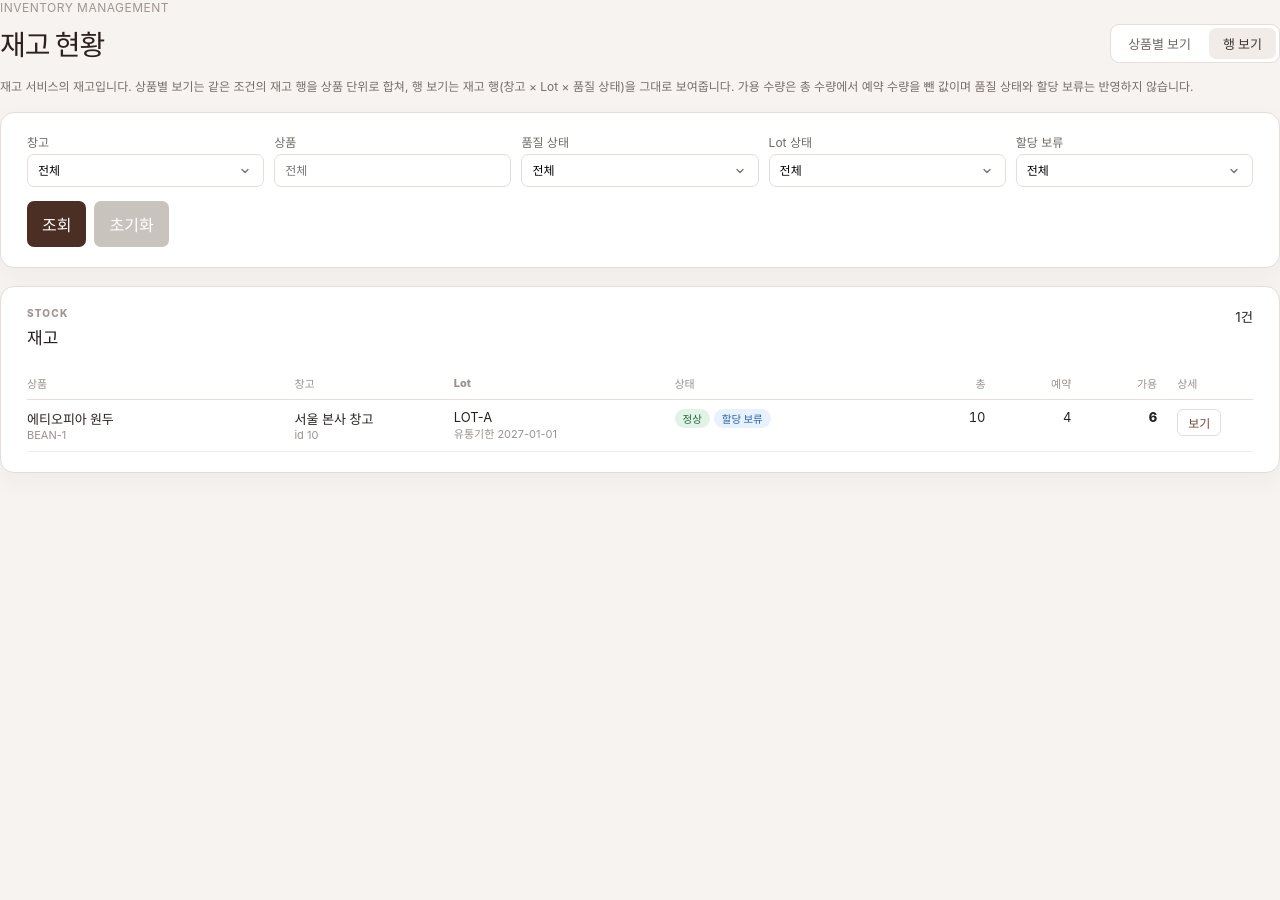
Test: StockPage › 보기를 누르면 상세와 변동 이력을 모달로 보여준다
This screenshot has width=1280, height=900.
Click the button with aria-label "에티오피아 원두 LOT-A 상세 보기" at (1199, 422), box x1=1177 y1=409 x2=1221 y2=436
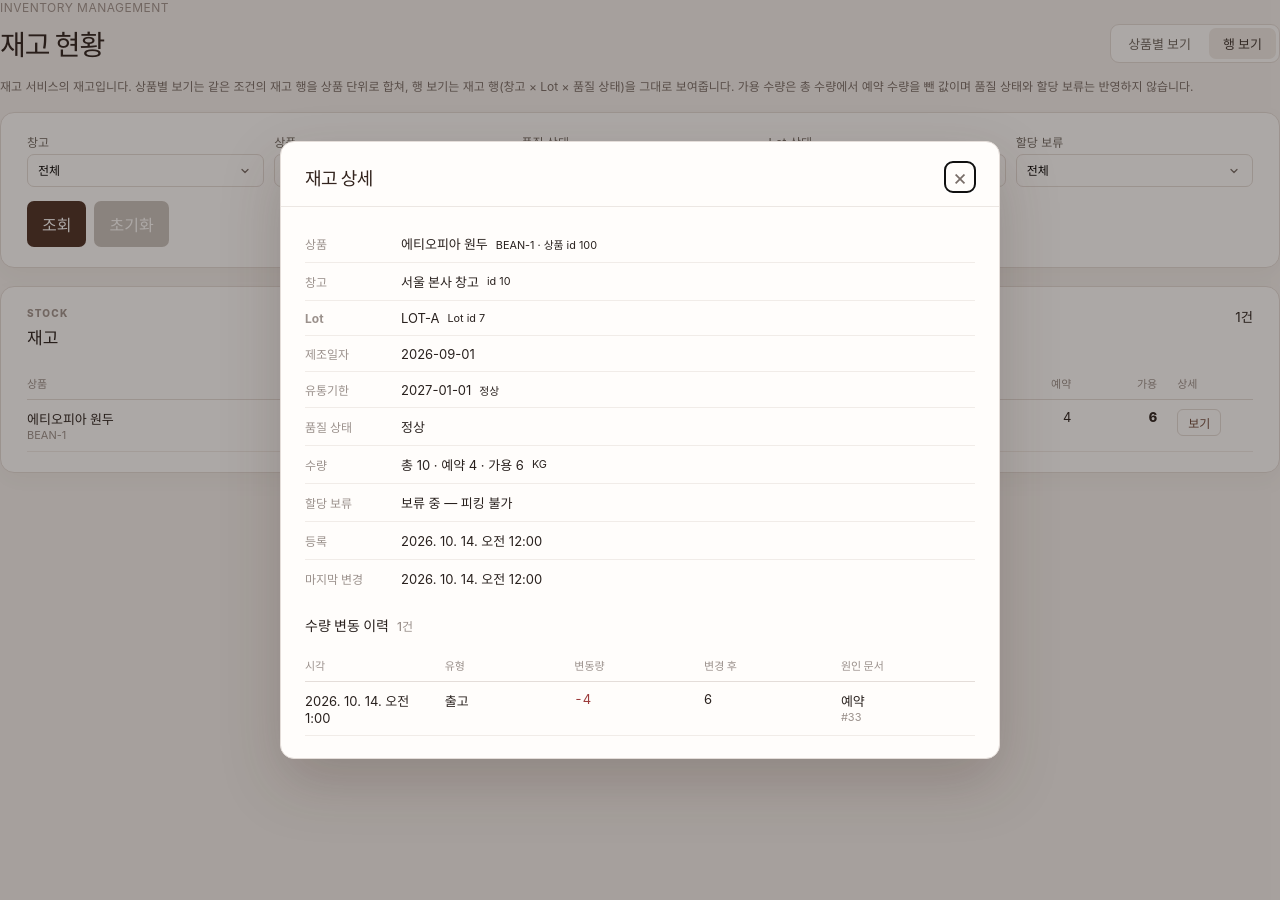
Now the text "보류 중 — 피킹 불가" is shown, box x1=401 y1=495 x2=512 y2=511
Now the text "서울 본사 창고" is shown, box x1=401 y1=272 x2=479 y2=291
Now the text "총 10 · 예약 4 · 가용 6" is shown, box x1=401 y1=457 x2=547 y2=473
